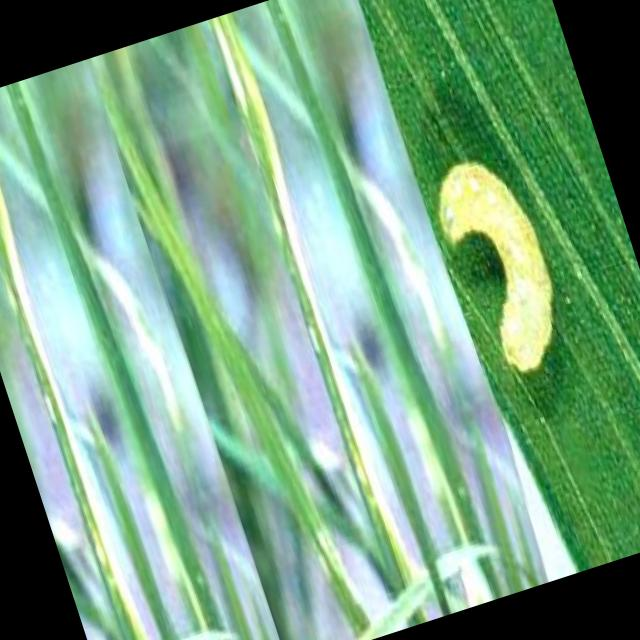whorl-maggot: (419, 135, 578, 387)
